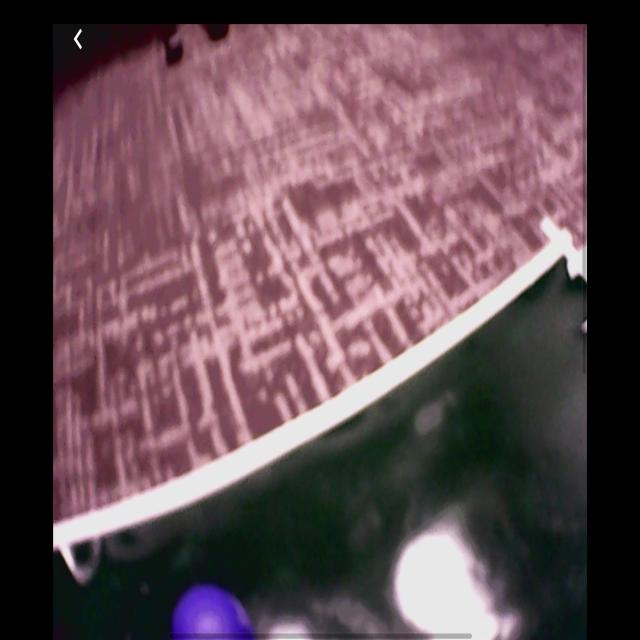ball: (171, 583, 256, 640)
